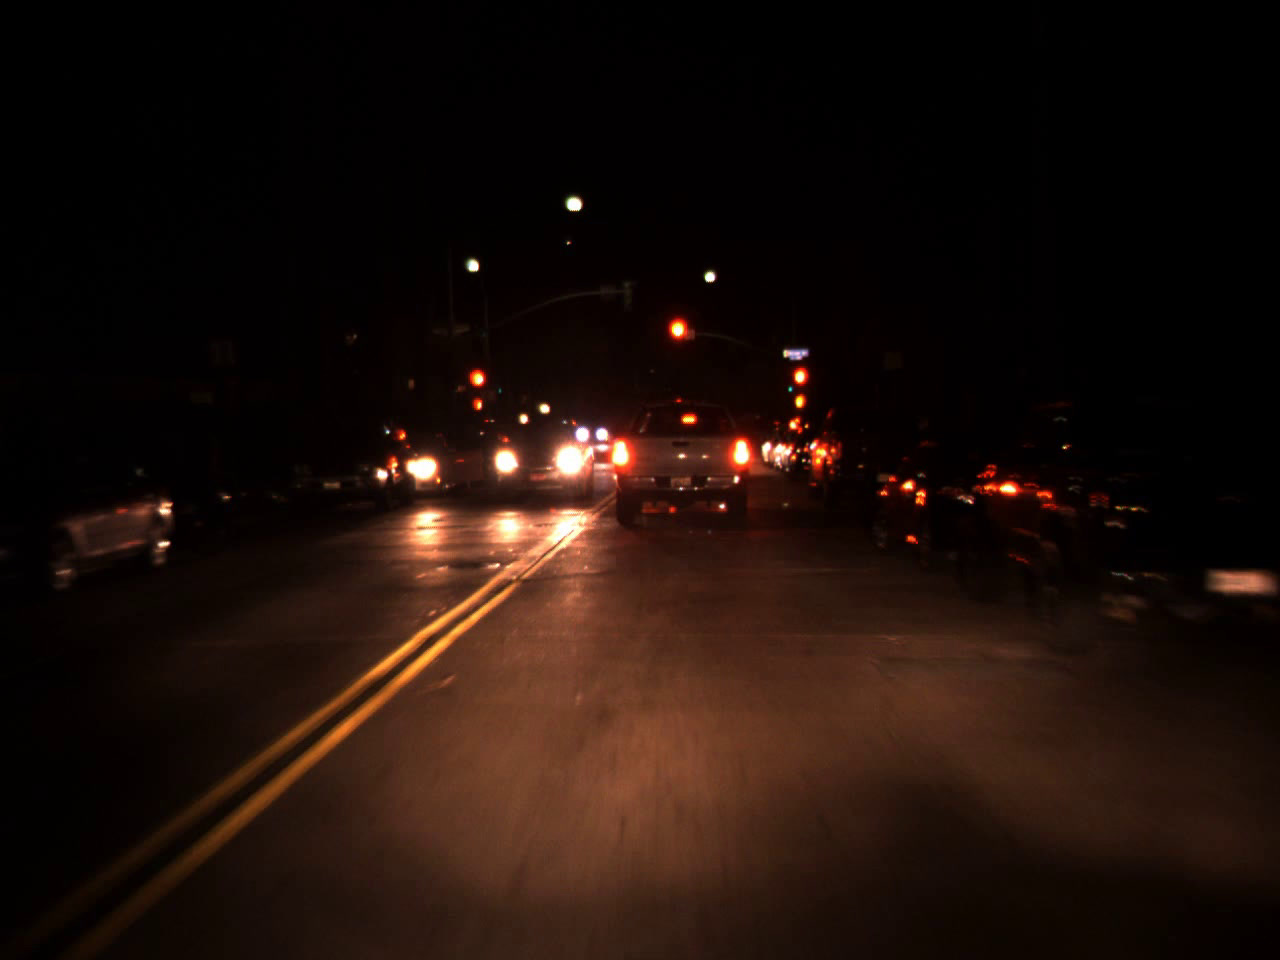stop: (665, 314, 692, 365), (466, 366, 488, 409), (790, 364, 809, 407)
